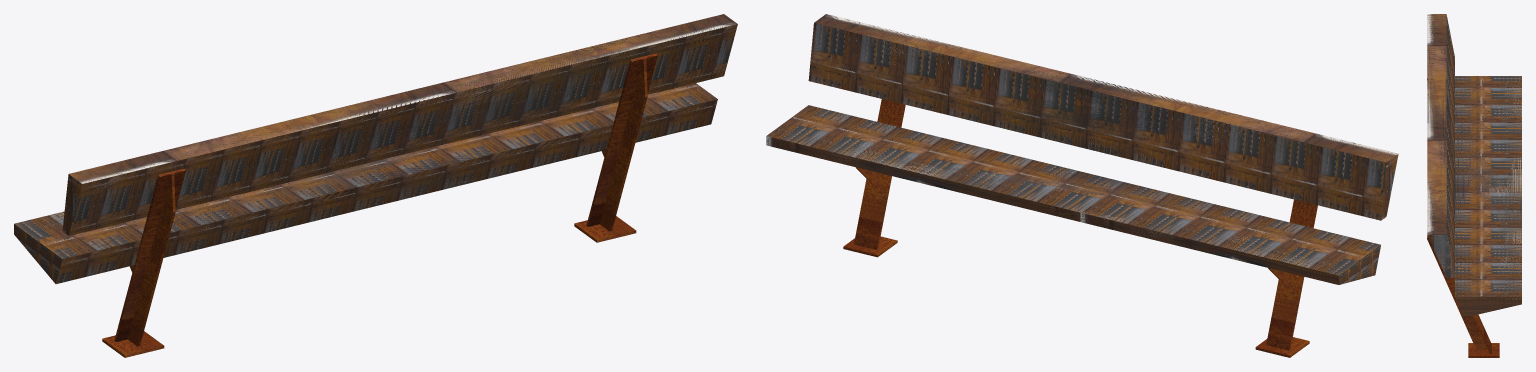
3 renders of one model, left to right at view 1: azimuth 30°, elevation 25°; view 2: azimuth 150°, elevation 25°; view 3: azimuth 270°, elevation 25°, orthographic. The views are drawn at different scales.
Visible parts, largest first — view 1: mesh2_mesh2-geometry, mesh3_mesh3-geometry, mesh1_mesh1-geometry; view 2: mesh2_mesh2-geometry, mesh3_mesh3-geometry, mesh1_mesh1-geometry; view 3: mesh3_mesh3-geometry, mesh2_mesh2-geometry, mesh1_mesh1-geometry.
Part boxes in pixels (bbox=[...]): mesh2_mesh2-geometry: bbox=[62, 14, 737, 235]; mesh3_mesh3-geometry: bbox=[14, 83, 717, 283]; mesh1_mesh1-geometry: bbox=[102, 53, 657, 357]; mesh2_mesh2-geometry: bbox=[808, 14, 1398, 220]; mesh3_mesh3-geometry: bbox=[766, 105, 1380, 284]; mesh1_mesh1-geometry: bbox=[843, 99, 1317, 357]; mesh3_mesh3-geometry: bbox=[1455, 76, 1521, 317]; mesh2_mesh2-geometry: bbox=[1427, 14, 1454, 277]; mesh1_mesh1-geometry: bbox=[1427, 79, 1499, 357].
Size of the model in its own units: 0.941 by 0.2924 by 0.1705.
